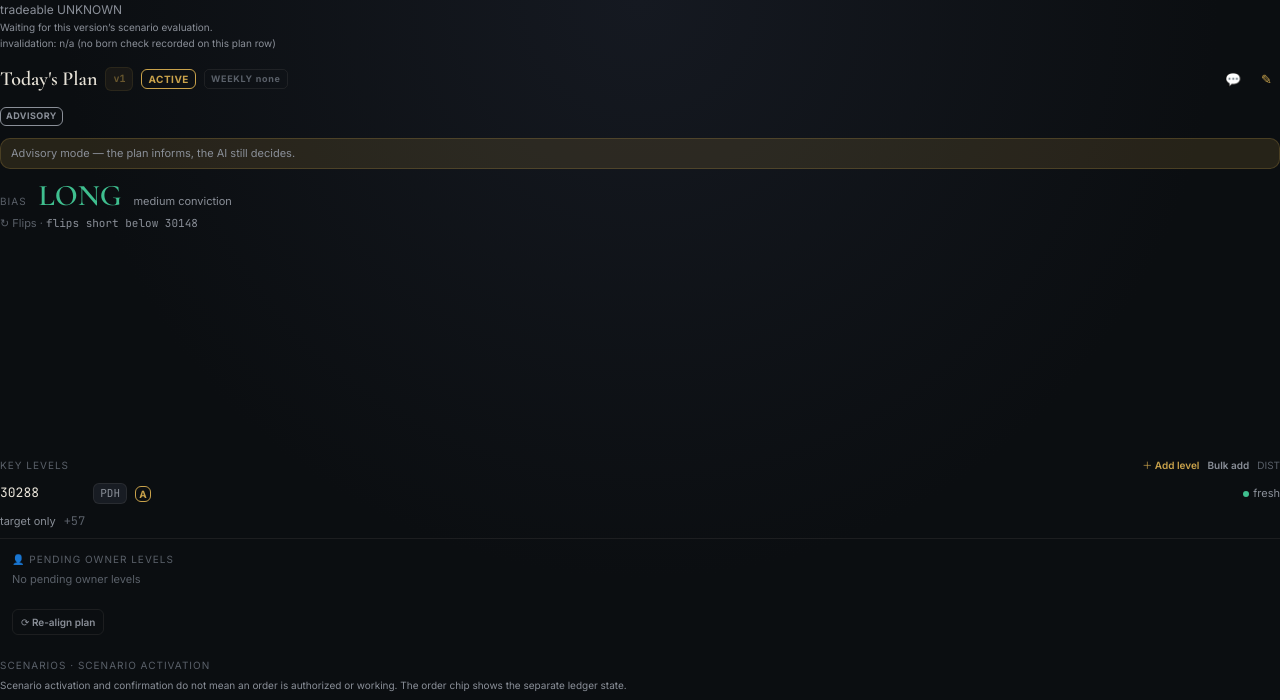
it: W13 integration — add a level on the card › shows the proposal card after an ＋Add level save
open ＋Add level → fill a price → Save (the owner's exact gesture)
Click the button "＋ Add level".
click(1171, 465)  # box [1142, 457, 1200, 473]
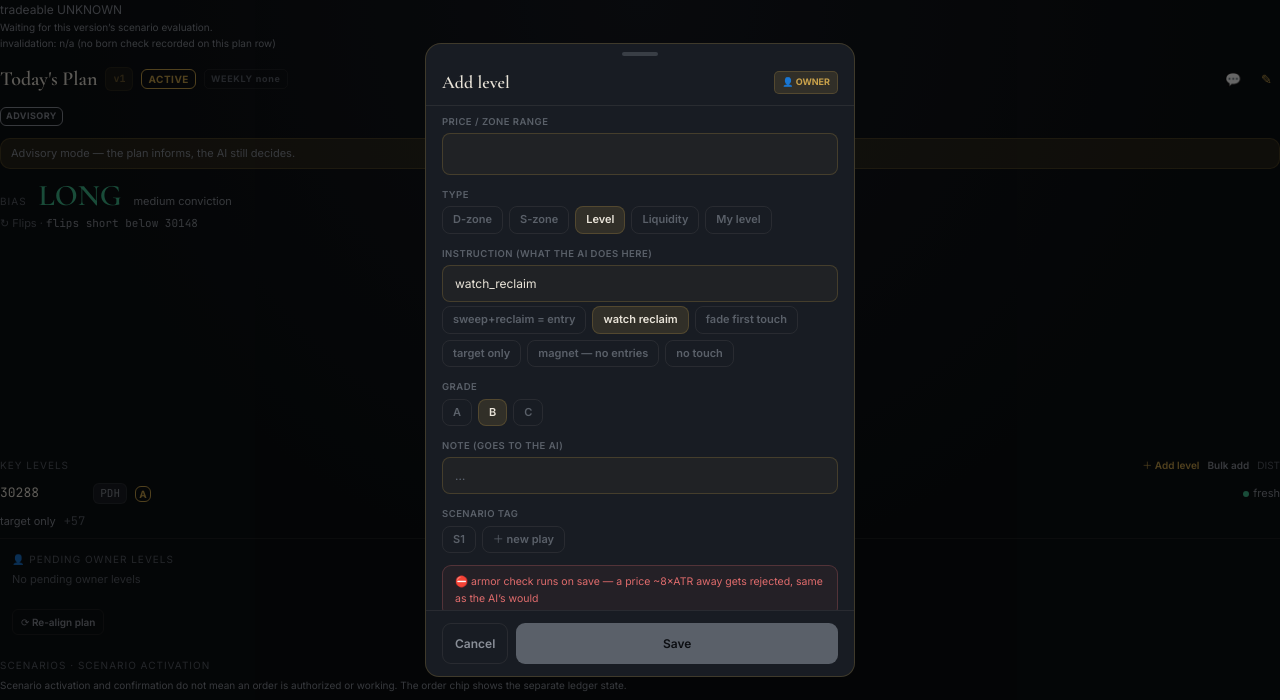
Type "30156" into the field labelled "Price / zone range".
click(640, 154); type("30156")  # box [442, 133, 838, 175]
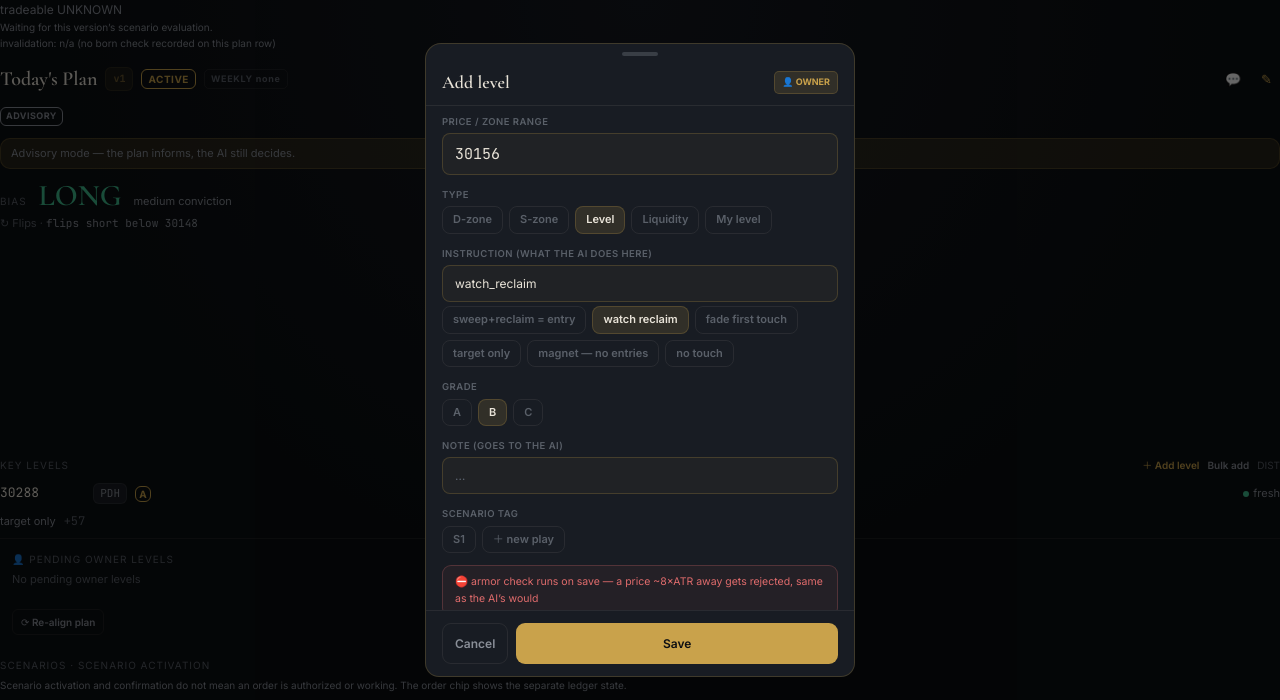
Click the button "Save".
click(677, 643)  # box [516, 623, 838, 664]
(page scrolled)
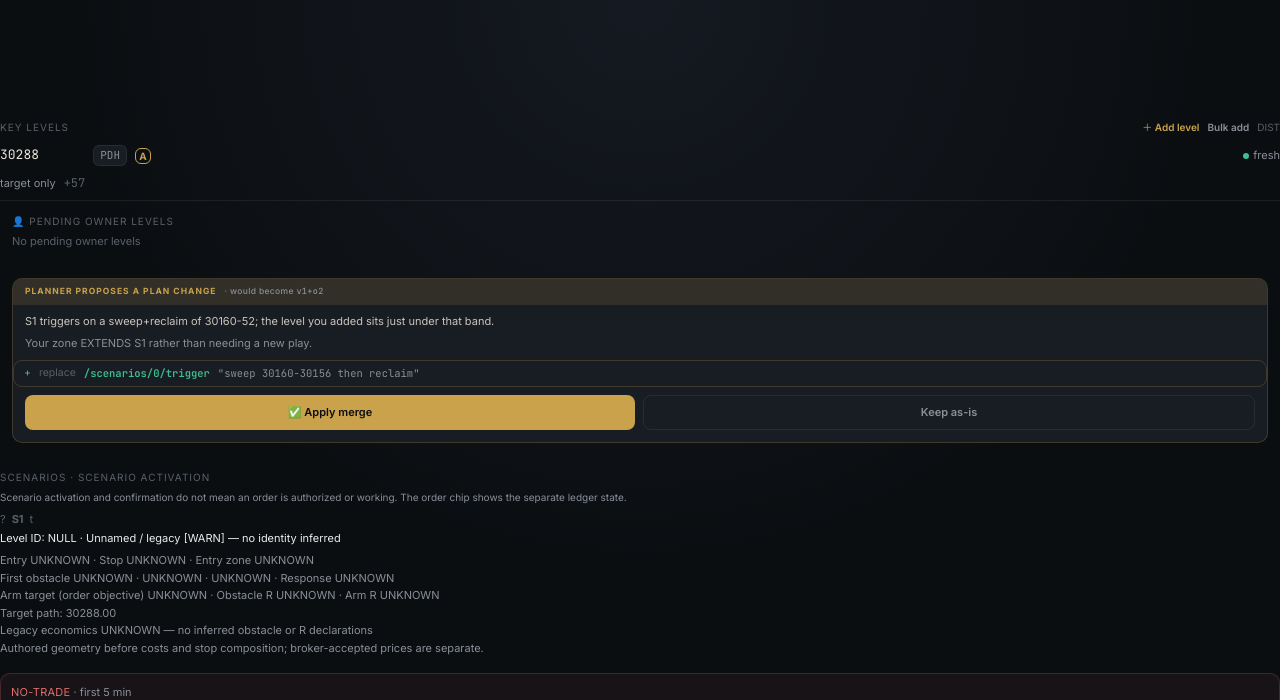
expect the element with test id "realign-proposal" is shown: met, box [12, 278, 1268, 443]
expect the element with test id "realign-proposal" shows "v1+o2": met, box [296, 285, 324, 297]
